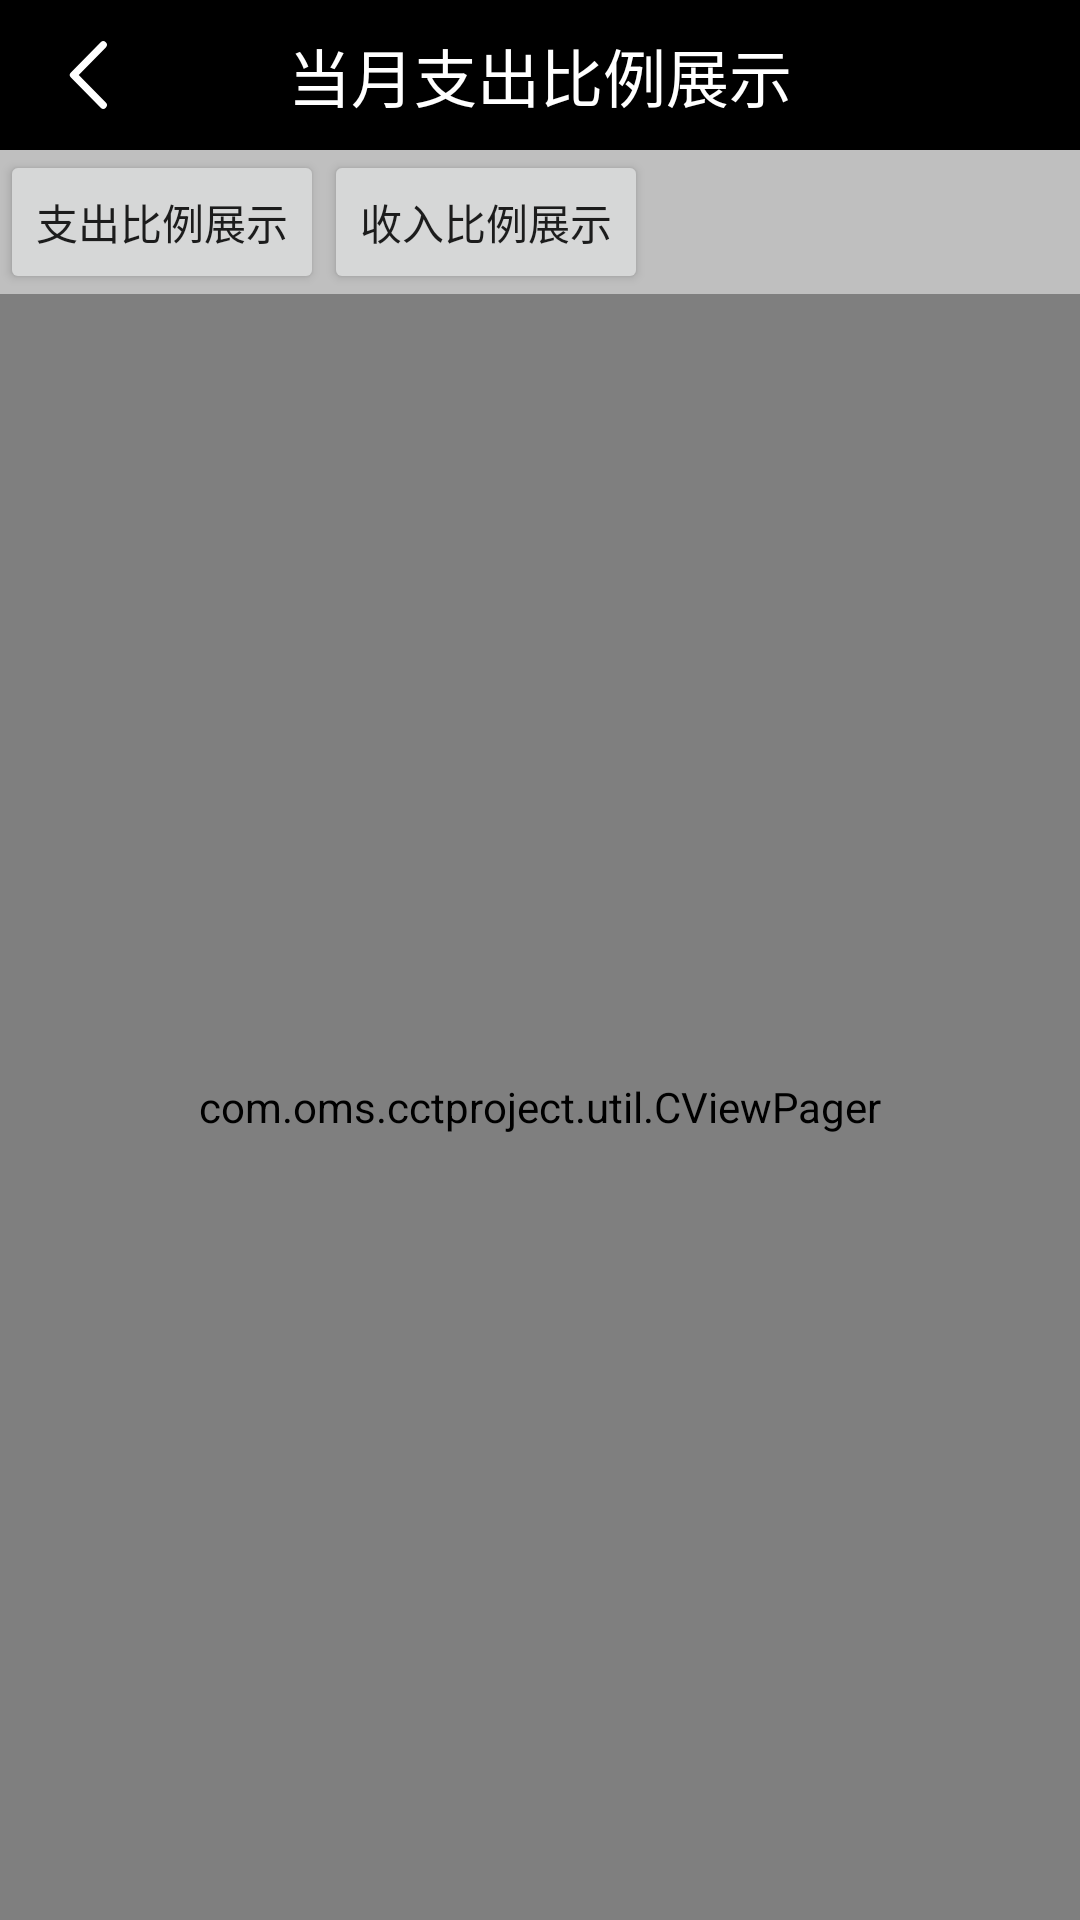

Where icons sit on this 1080x1920 app screen, as (x1, y1, x2, y2):
back: (69, 41, 107, 109)
